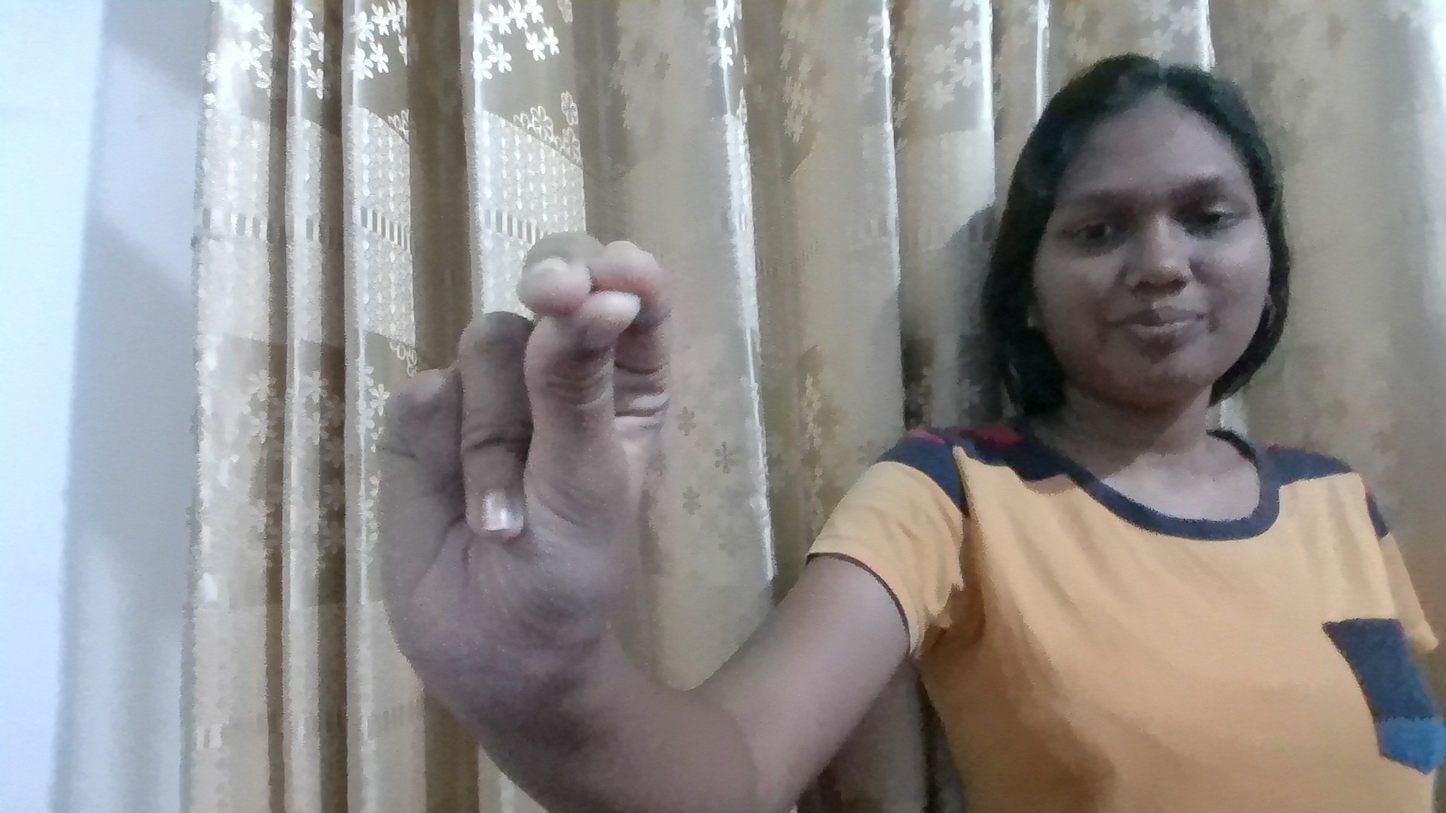No: (350, 193, 713, 738)
